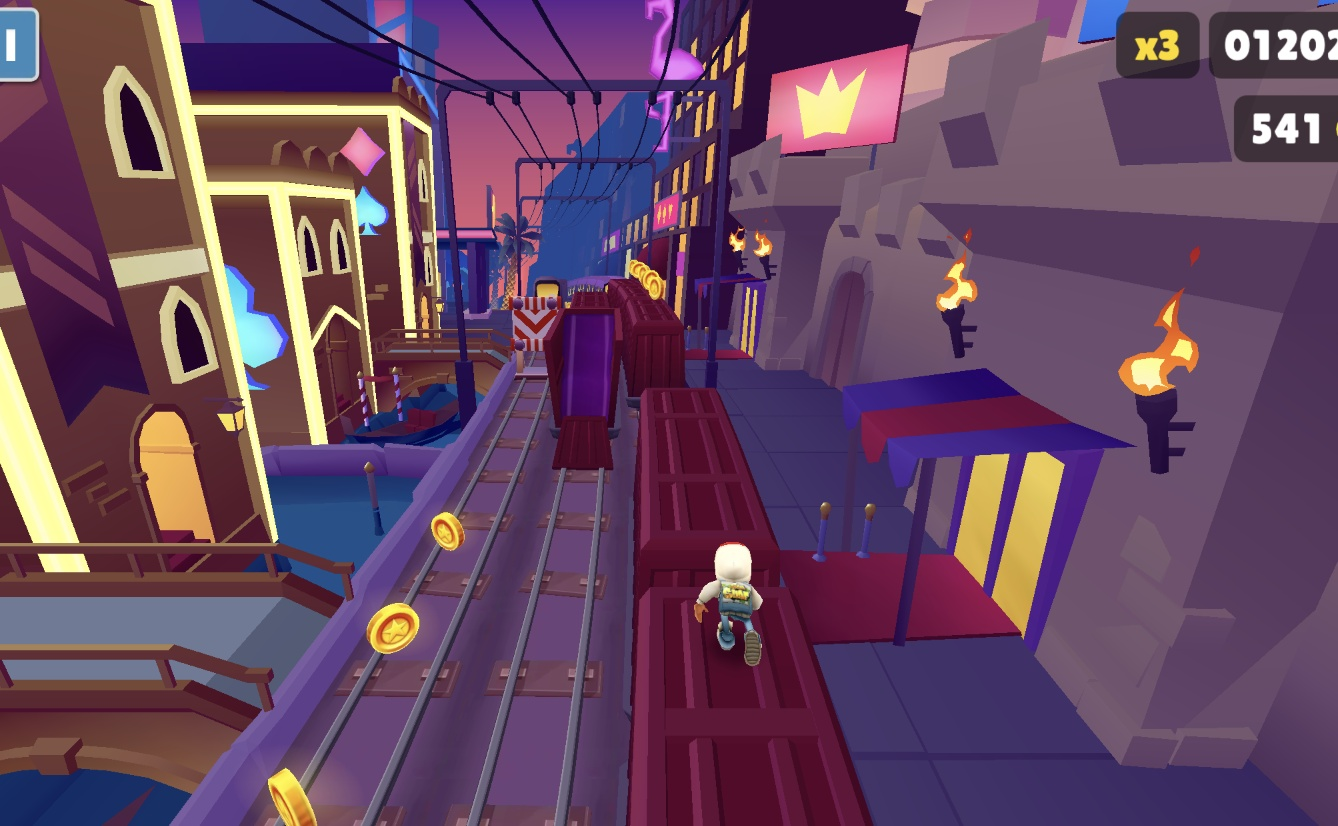overhead_barrier: (509, 302, 559, 389)
train: (624, 382, 934, 826), (549, 277, 652, 469), (634, 277, 691, 394)
